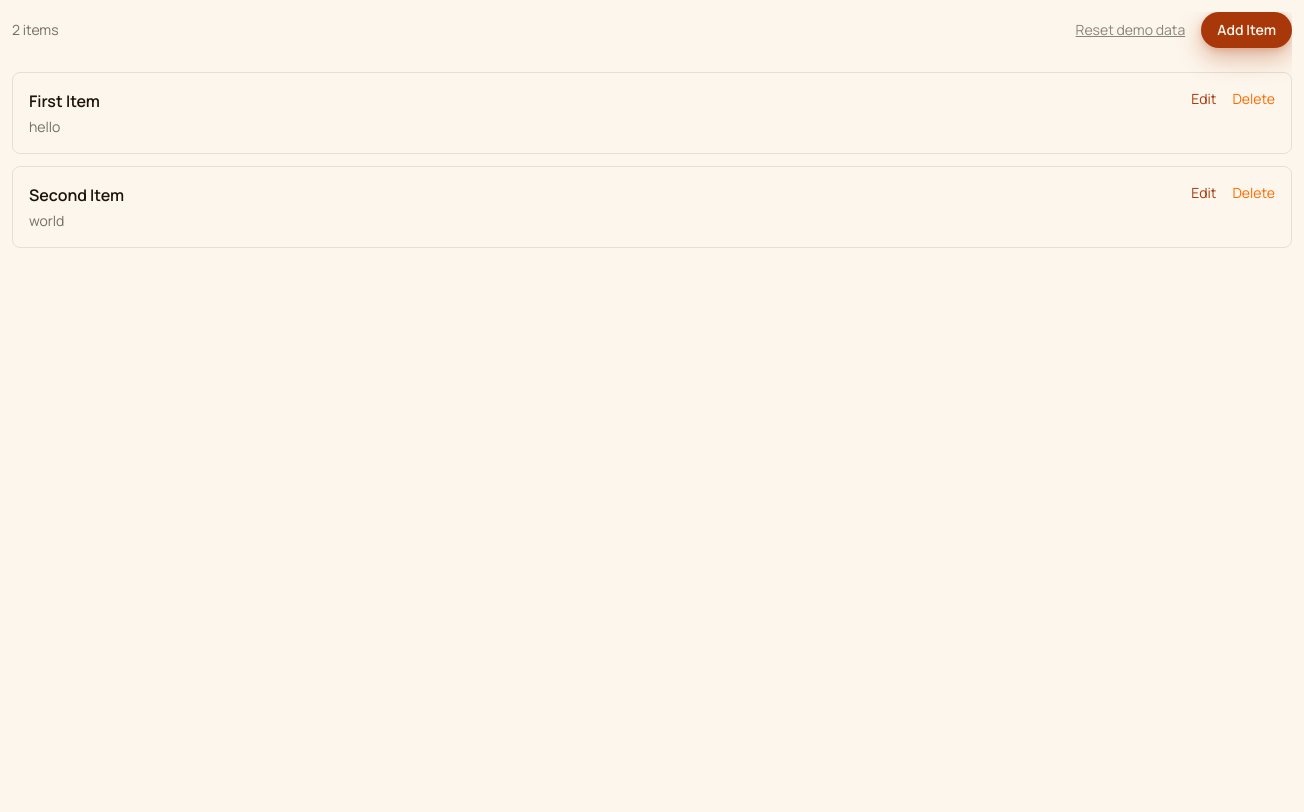
it: ResourceManager › adds a new item through the form
Click the button "Add Item" at (1247, 30), box [1201,12,1292,48]
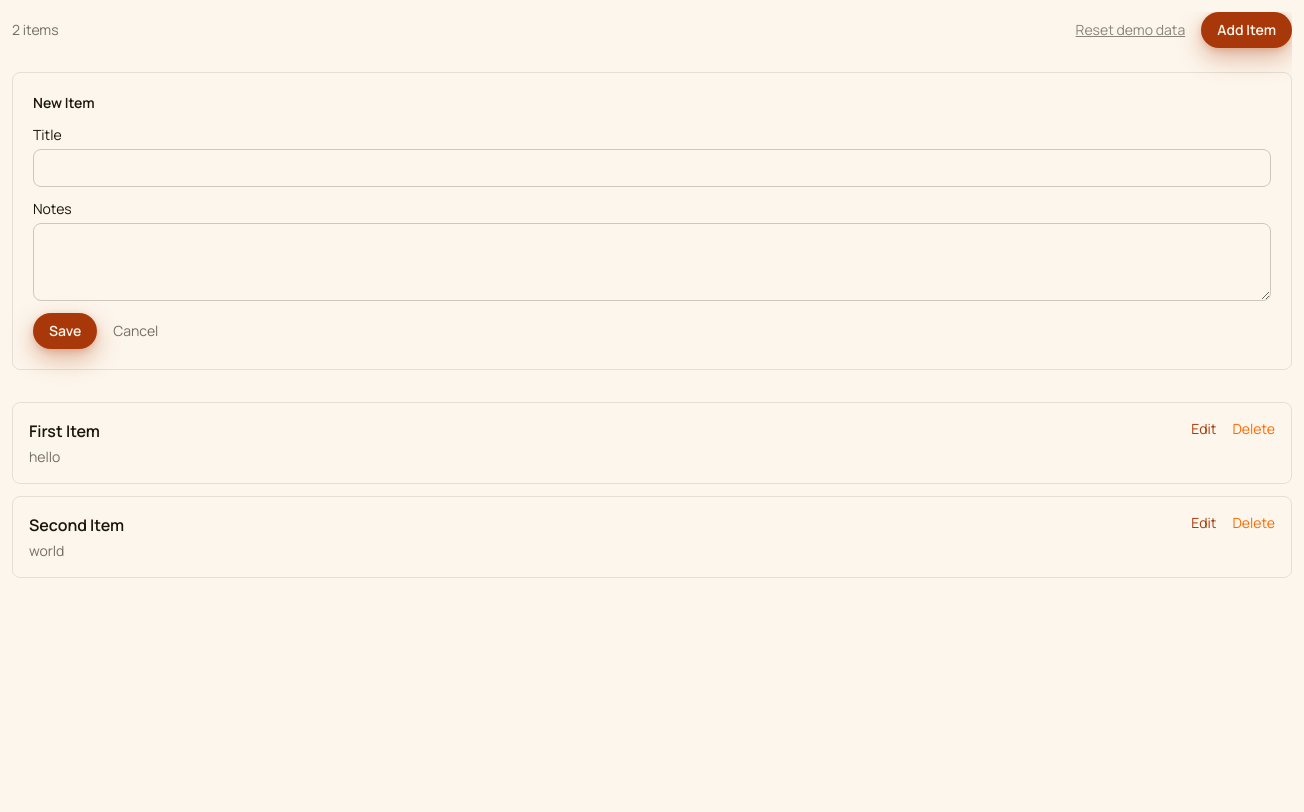
Type "Third Item" into the field labelled "Title" at (652, 168), box [33,149,1271,187]
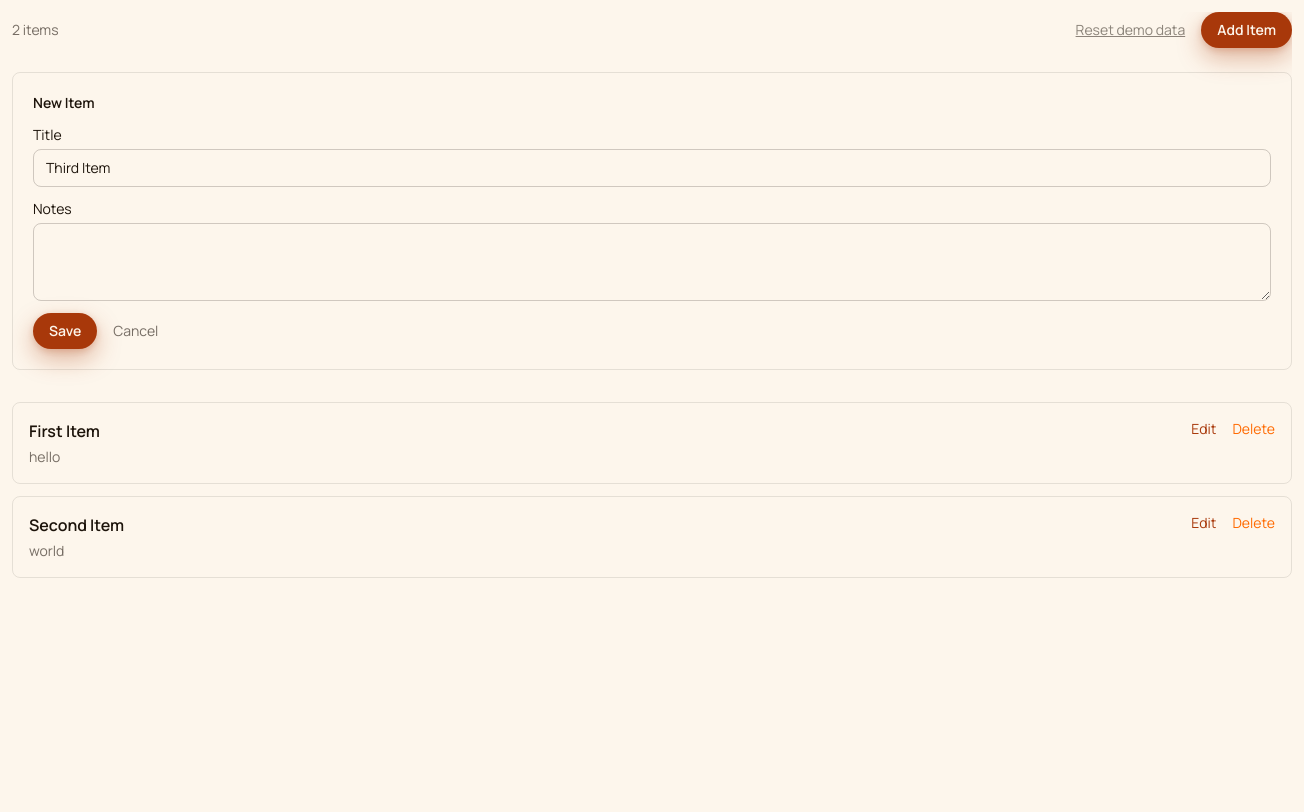
Click the button "Save" at (65, 331), box [33,313,97,349]
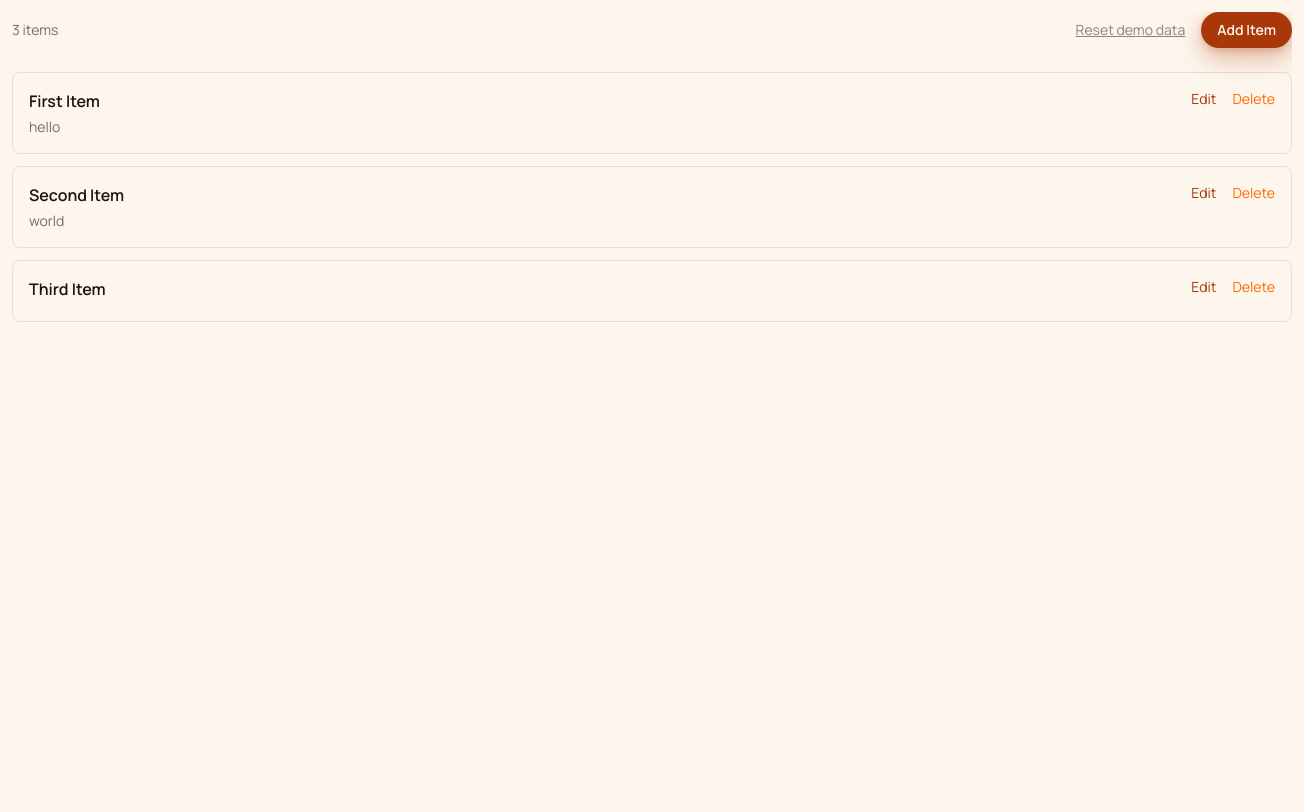
Result: the text "Third Item" is shown at [29,277,106,301]
Result: the text "3 items" is shown at [12,20,58,40]
